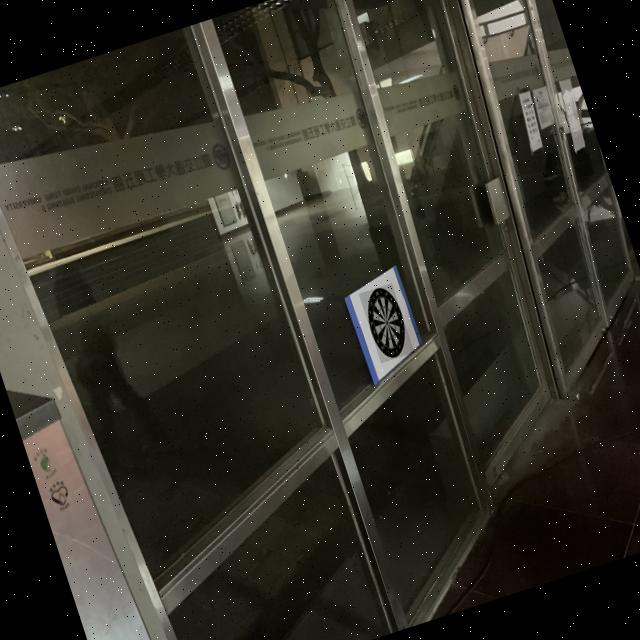archery-targets: (358, 282, 414, 363)
